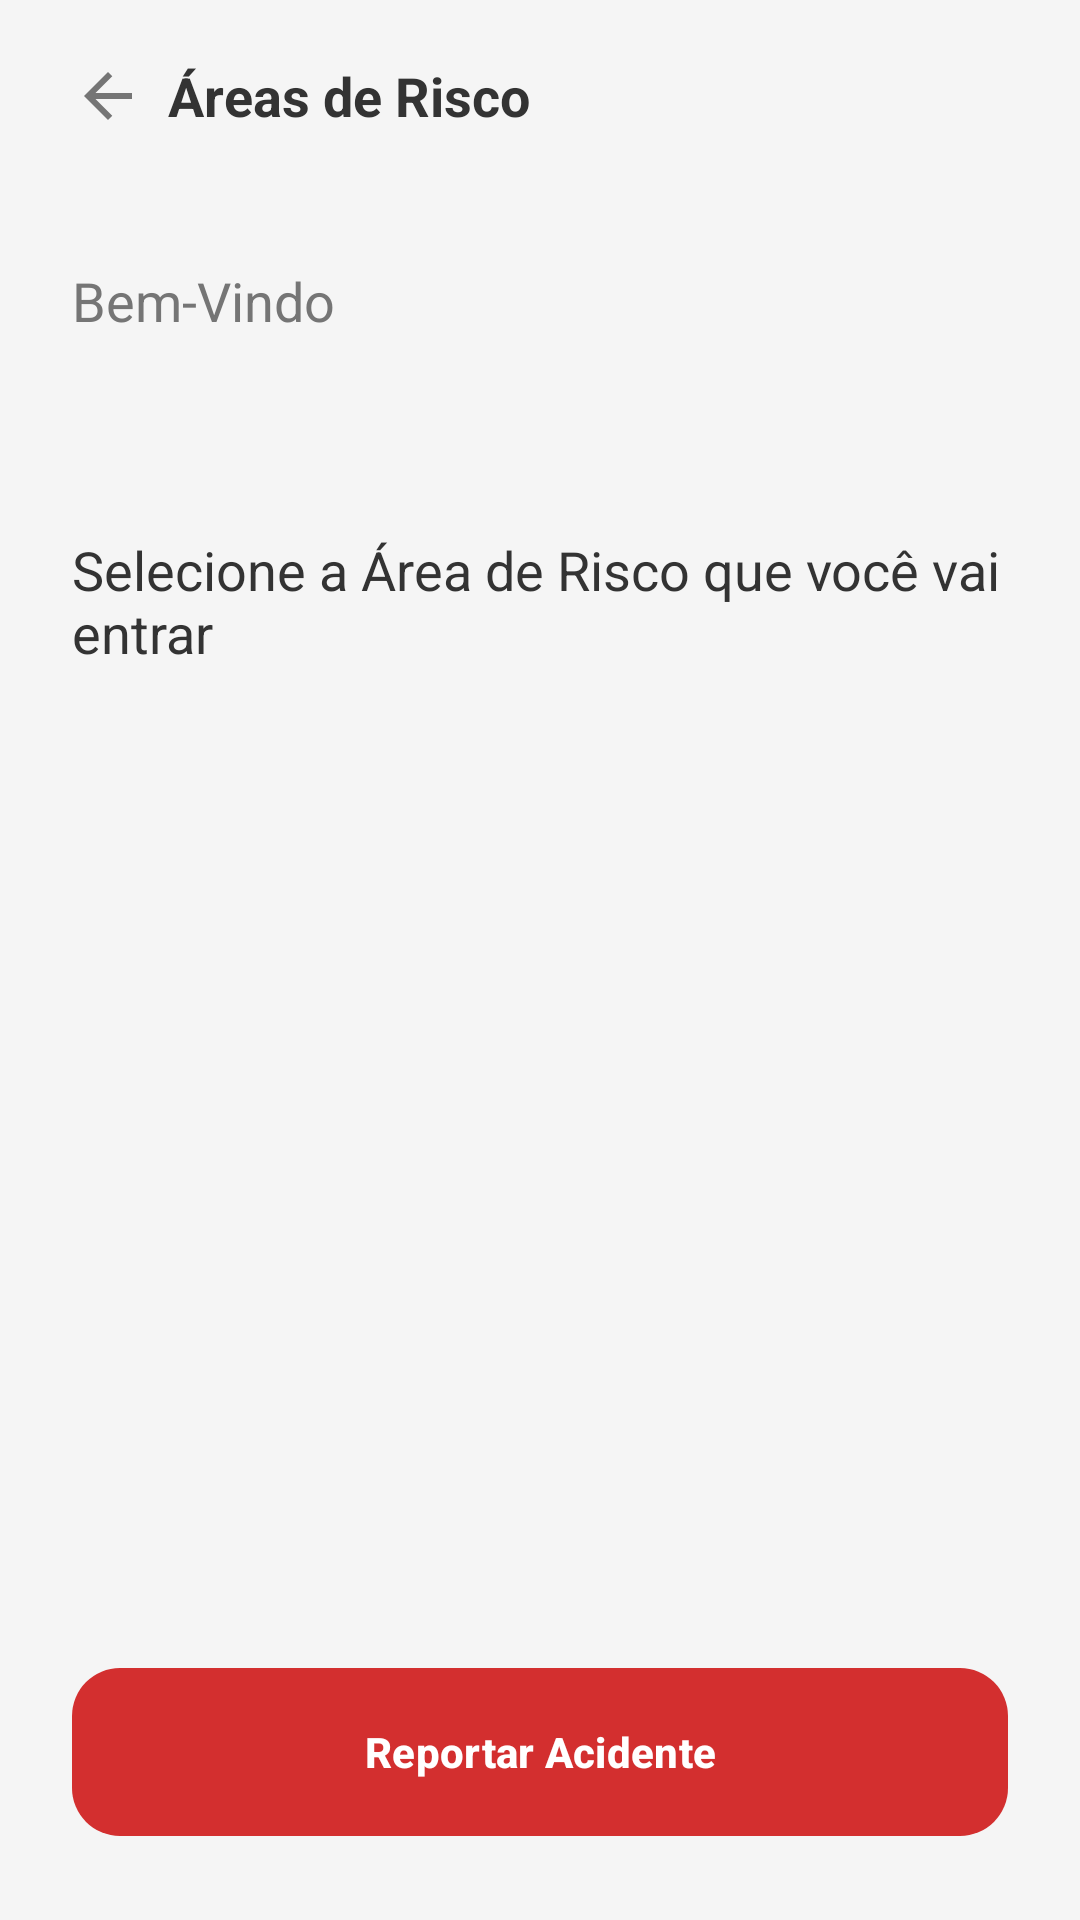

Where icons sit on this 1080w x 1920h app screen, as (x1, y1, x2, y2):
Voltar: (84, 72, 132, 120)
